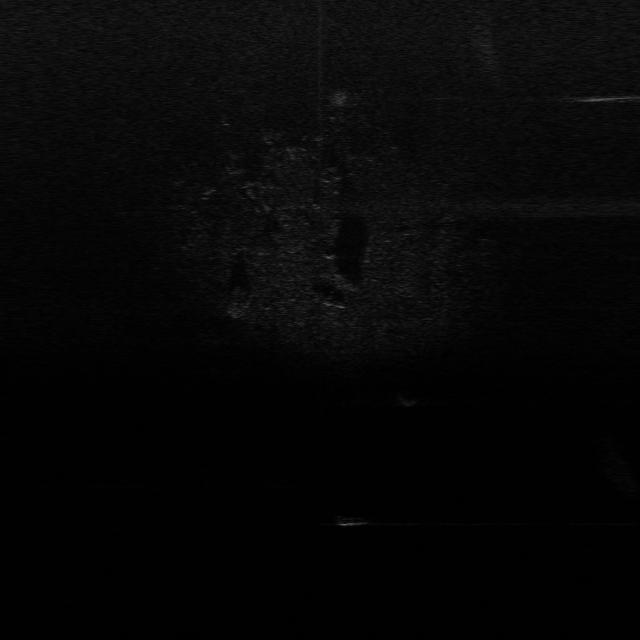cube: (332, 514, 373, 529)
square cage: (396, 391, 420, 409)
